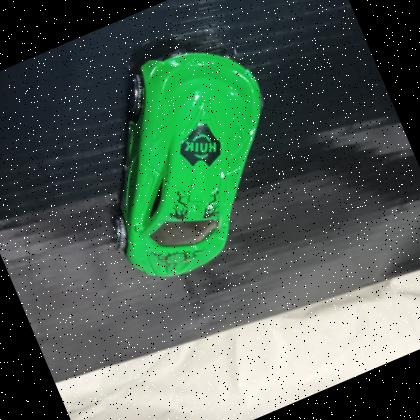Car: (42, 8, 328, 306)
